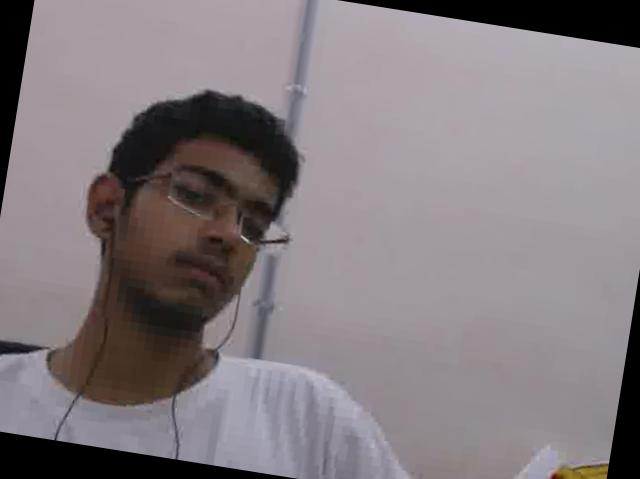bosan: (114, 128, 289, 327)
